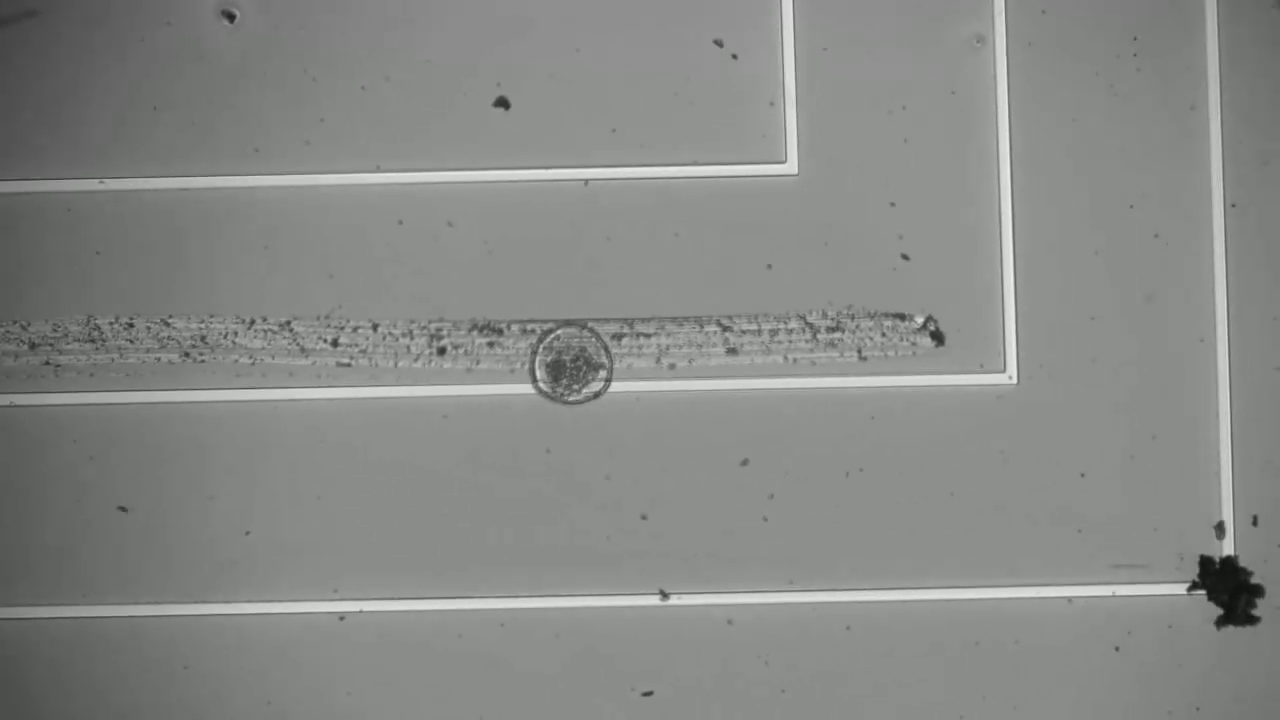stains_enbedded: (1180, 527, 1273, 646), (649, 583, 677, 611)
